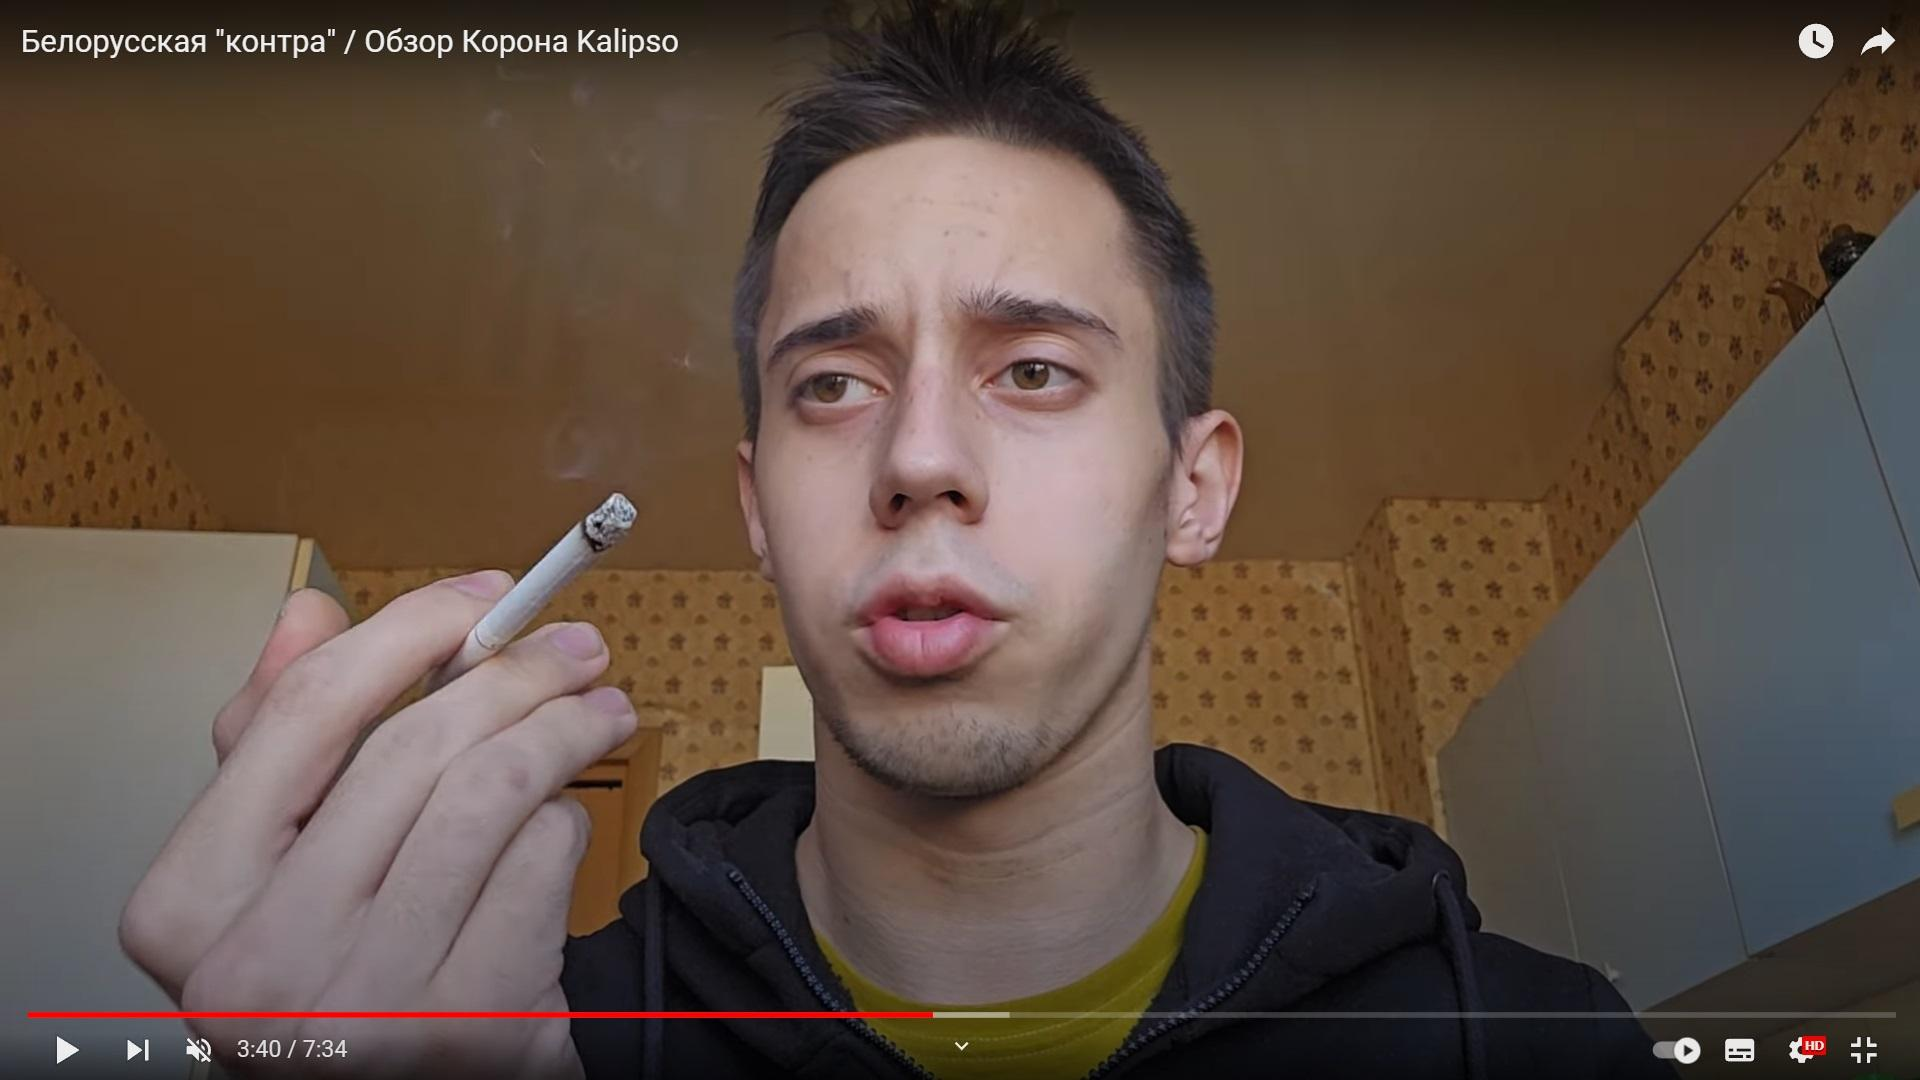cigarette: (447, 493, 638, 676)
